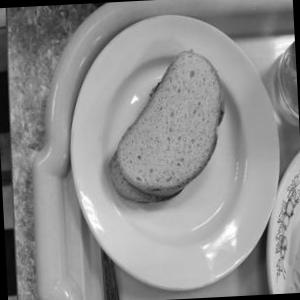bread: (92, 28, 234, 227)
